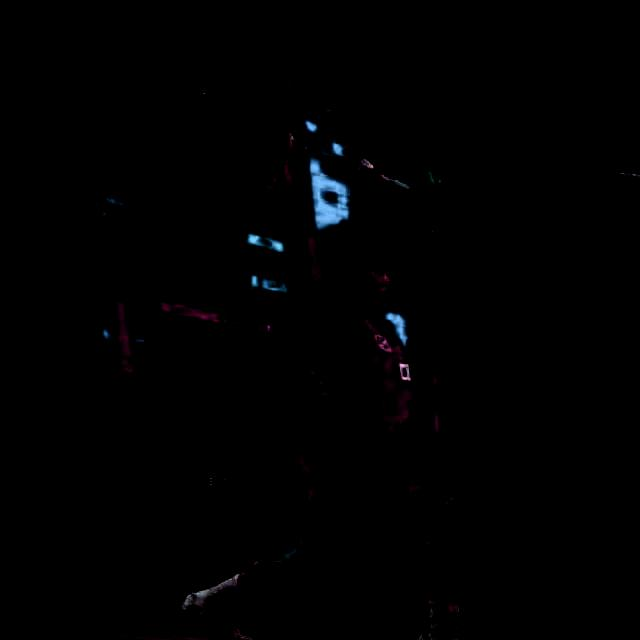barbell: (96, 29, 270, 202)
